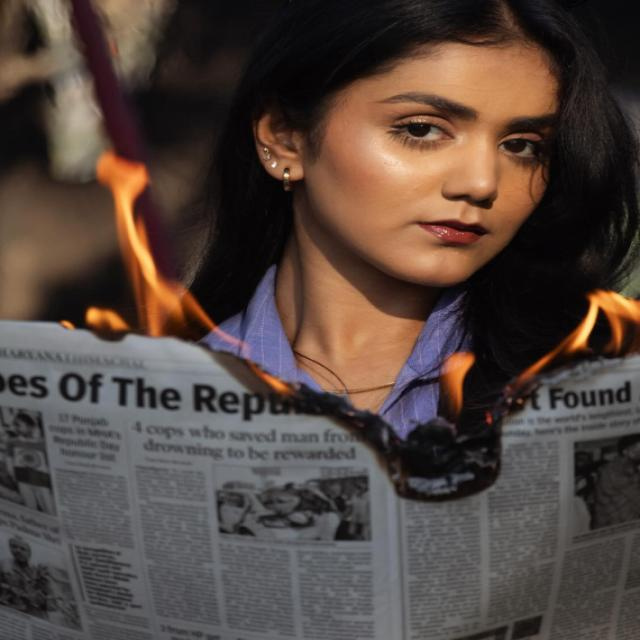fire: (95, 149, 197, 337), (505, 290, 640, 399), (199, 311, 294, 400), (438, 351, 475, 417), (86, 305, 130, 340)
